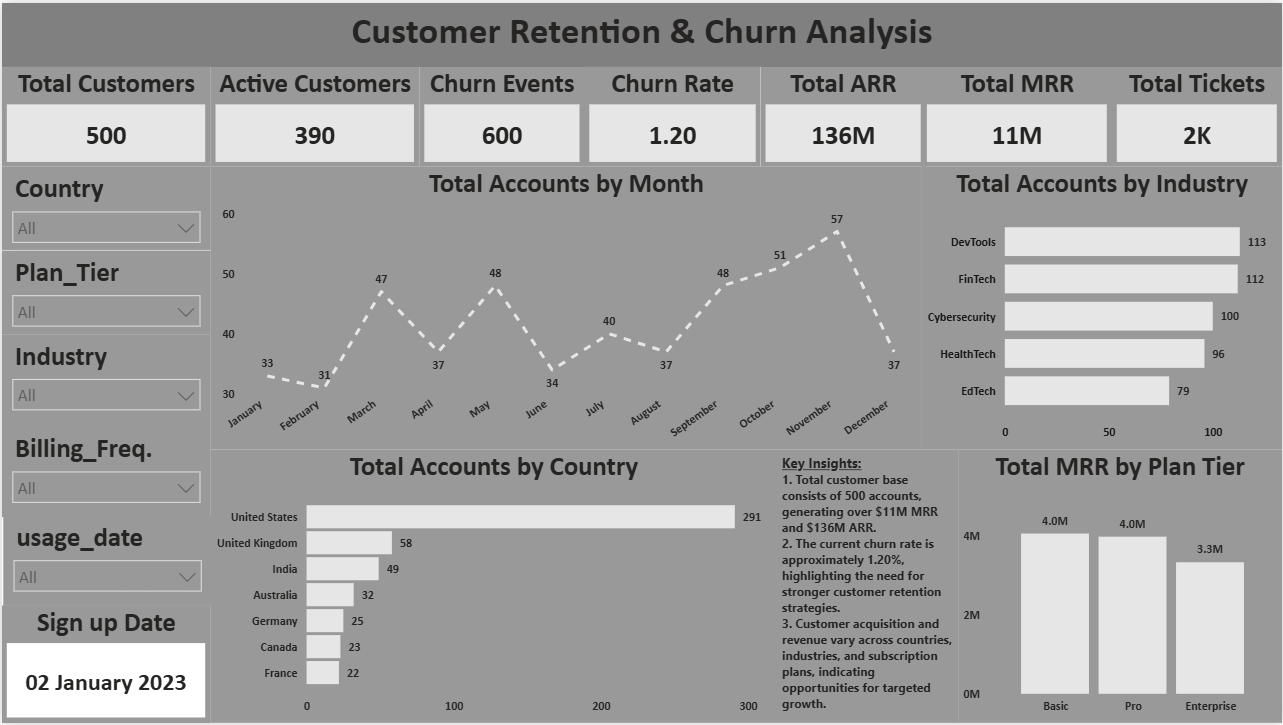

What the dashboard file says about the page in this screenshot:
{"tool":"powerbi","page":{"name":"Page 1","canvas":[1280,720],"ordinal":0},"visuals":[{"type":"cardVisual","title":"Active Customers","fields":{"Data":["ravenstack_accounts.Active 1 Customers"]},"box":[208.7,63.9,208.7,100.1],"z":0},{"type":"cardVisual","title":"Total MRR","fields":{"Data":["ravenstack_accounts.Total MRR"]},"box":[920.5,63.9,190.6,100.1],"z":1000},{"type":"cardVisual","title":"Total ARR","fields":{"Data":["ravenstack_accounts.Total ARR"]},"box":[758.9,63.9,165.3,100.1],"z":2000},{"type":"cardVisual","title":"Churn Events","fields":{"Data":["ravenstack_accounts.Total Churn"]},"box":[417.4,63.9,165.3,100.1],"z":3000},{"type":"cardVisual","title":"Total Tickets","fields":{"Data":["ravenstack_accounts.Total Tickets"]},"box":[1110,63.8,170,100],"z":4000},{"type":"textbox","box":[0,0,1280,63.9],"z":5000},{"type":"slicer","fields":{"Values":["ravenstack_accounts.country"]},"box":[0,164.1,208.7,83.2],"z":6000},{"type":"slicer","fields":{"Values":["ravenstack_accounts.plan_tier"]},"box":[0,247.5,208.8,83.8],"z":7000},{"type":"slicer","fields":{"Values":["ravenstack_accounts.industry"]},"box":[0,331.2,208.8,92.5],"z":8000},{"type":"slicer","fields":{"Values":["ravenstack_feature_usage.usage_date"]},"box":[1.2,512.5,208.8,90],"z":9000},{"type":"slicer","fields":{"Values":["ravenstack_subscriptions.billing_frequency"]},"box":[0,423.5,208.7,90.5],"z":10000},{"type":"columnChart","title":"Total MRR by Plan Tier","fields":{"Category":["ravenstack_accounts.plan_tier"],"Y":["Sum(ravenstack_subscriptions.mrr_amount)"]},"box":[956.2,446.2,323.8,273.8],"z":11000},{"type":"barChart","title":"Total Accounts by Industry","fields":{"Category":["ravenstack_accounts.industry"],"Y":["CountNonNull(ravenstack_accounts.account_id)"]},"box":[920,163.8,360,282.5],"z":12000},{"type":"barChart","title":"Total Accounts by Country","fields":{"Category":["ravenstack_accounts.country"],"Y":["Count(ravenstack_accounts.account_id)"]},"box":[208.8,446.2,566.2,273.8],"z":13000},{"type":"cardVisual","title":"Total Customers","fields":{"Data":["ravenstack_accounts.Total Customers"]},"box":[0,63.9,208.7,100.1],"z":14000},{"type":"cardVisual","title":"Sign up Date","fields":{"Data":["Min(ravenstack_accounts.signup_date)"]},"box":[0,602.5,208.8,117.5],"z":15000},{"type":"lineChart","title":"Total Accounts by Month","fields":{"Category":["ravenstack_accounts.signup_date.Variation.Date Hierarchy.Month"],"Y":["CountNonNull(ravenstack_accounts.account_id)"]},"box":[208.7,164.1,715.4,282.3],"z":16000},{"type":"cardVisual","title":"Churn Rate","fields":{"Data":["ravenstack_accounts.Churn Rate"]},"box":[582.5,63.8,176.2,100],"z":17000},{"type":"textbox","box":[775,446.2,181.2,273.8],"z":18000}]}

Visuals, with their boxes in screenshot pixels (x1, y1, x2, y2), scaled from the page's 1280x720 canvas onto the 1283x725 screenshot:
"Active Customers" cardVisual: {"x1": 209, "y1": 64, "x2": 418, "y2": 165}
"Total MRR" cardVisual: {"x1": 923, "y1": 64, "x2": 1114, "y2": 165}
"Total ARR" cardVisual: {"x1": 761, "y1": 64, "x2": 926, "y2": 165}
"Churn Events" cardVisual: {"x1": 418, "y1": 64, "x2": 584, "y2": 165}
"Total Tickets" cardVisual: {"x1": 1113, "y1": 64, "x2": 1282, "y2": 165}
textbox: {"x1": 0, "y1": 0, "x2": 1282, "y2": 64}
slicer - ravenstack_accounts.country: {"x1": 0, "y1": 165, "x2": 209, "y2": 249}
slicer - ravenstack_accounts.plan_tier: {"x1": 0, "y1": 249, "x2": 209, "y2": 334}
slicer - ravenstack_accounts.industry: {"x1": 0, "y1": 334, "x2": 209, "y2": 427}
slicer - ravenstack_feature_usage.usage_date: {"x1": 1, "y1": 516, "x2": 210, "y2": 607}
slicer - ravenstack_subscriptions.billing_frequency: {"x1": 0, "y1": 426, "x2": 209, "y2": 518}
"Total MRR by Plan Tier" columnChart: {"x1": 958, "y1": 449, "x2": 1282, "y2": 724}
"Total Accounts by Industry" barChart: {"x1": 922, "y1": 165, "x2": 1282, "y2": 449}
"Total Accounts by Country" barChart: {"x1": 209, "y1": 449, "x2": 777, "y2": 724}
"Total Customers" cardVisual: {"x1": 0, "y1": 64, "x2": 209, "y2": 165}
"Sign up Date" cardVisual: {"x1": 0, "y1": 607, "x2": 209, "y2": 724}
"Total Accounts by Month" lineChart: {"x1": 209, "y1": 165, "x2": 926, "y2": 449}
"Churn Rate" cardVisual: {"x1": 584, "y1": 64, "x2": 760, "y2": 165}
textbox: {"x1": 777, "y1": 449, "x2": 958, "y2": 724}
